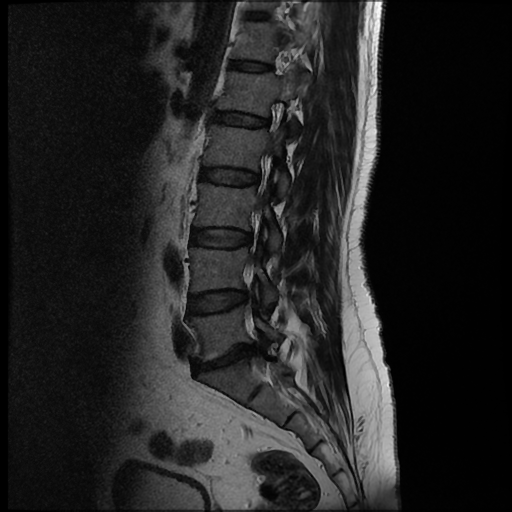LFS0: (254, 93, 291, 139)
